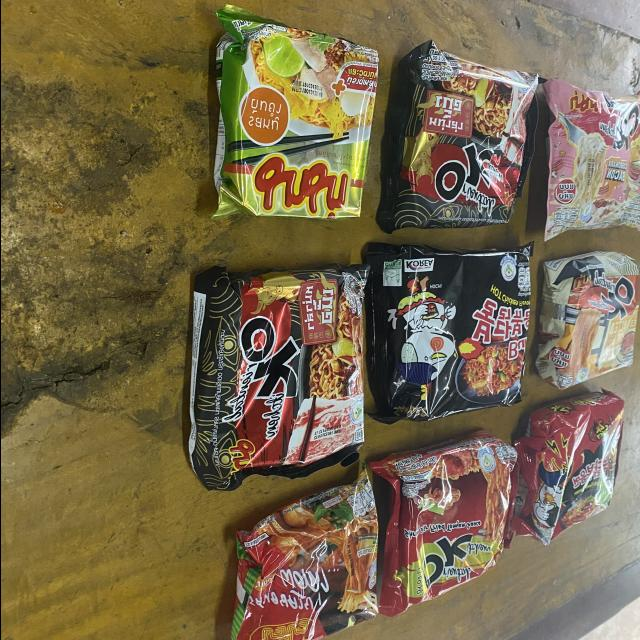plastik: (188, 263, 368, 491), (213, 6, 378, 219), (376, 41, 539, 233), (365, 243, 532, 423), (370, 434, 515, 616), (231, 470, 377, 640), (510, 389, 623, 544), (543, 79, 640, 241), (534, 252, 638, 389)
